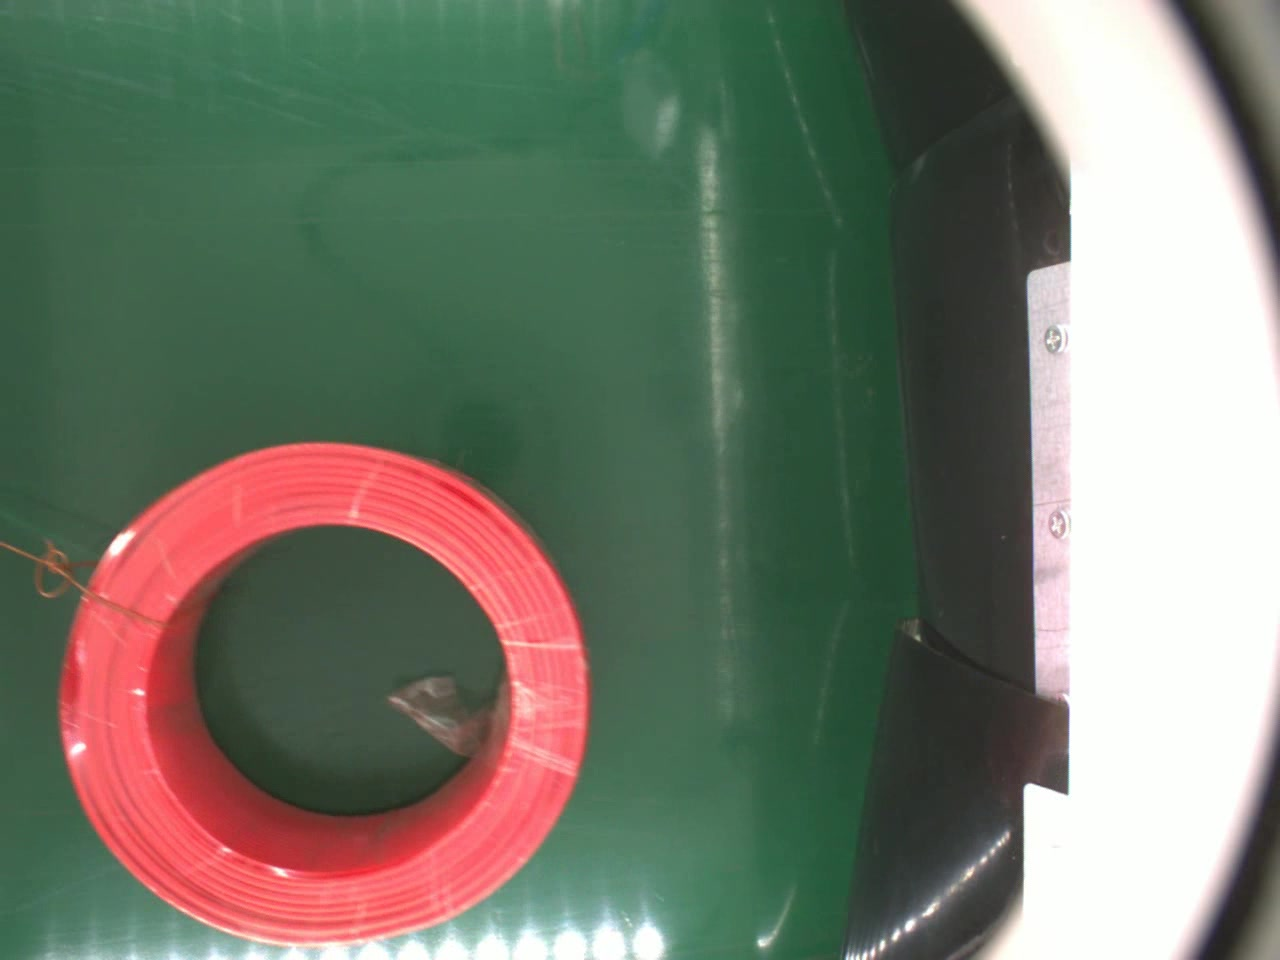red: (58, 437, 597, 944)
